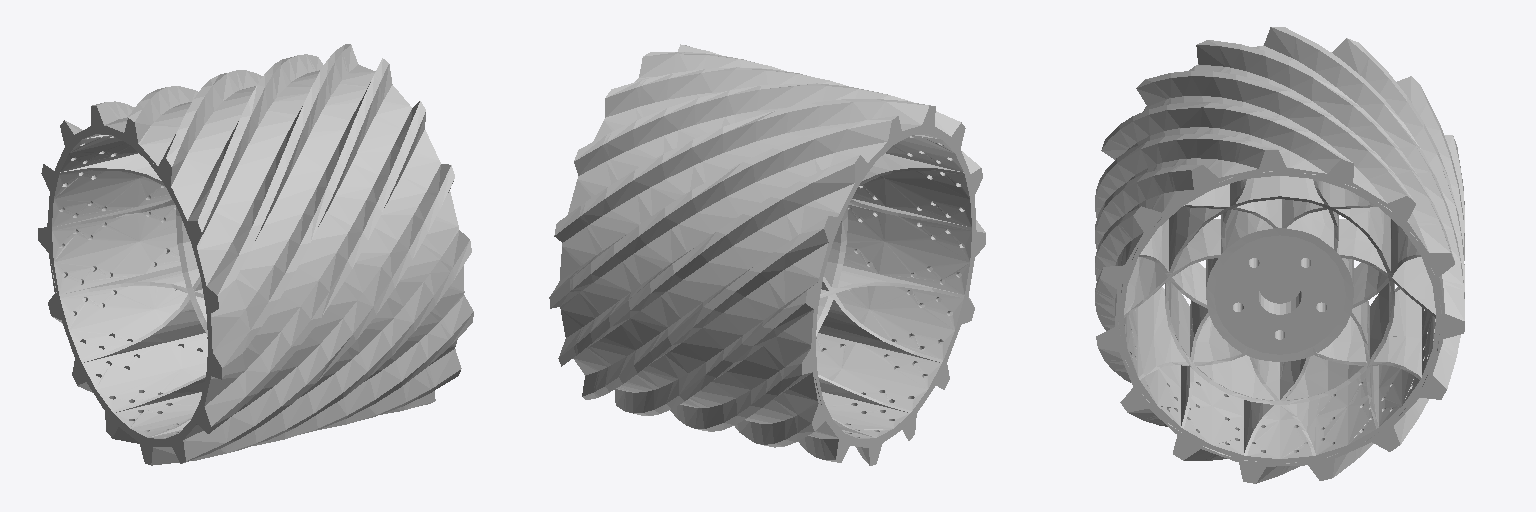
Rendered from fullwheelccw.obj.
3 renders of one model, left to right at view 1: azimuth 30°, elevation 25°; view 2: azimuth 150°, elevation 25°; view 3: azimuth 270°, elevation 25°, orthographic.
Parts seen in each view (by area): view 1: obj_[number redacted]; view 2: obj_[number redacted]; view 3: obj_[number redacted].
Boxes of the visible parts, x1=… form: obj_[number redacted]: x1=38, y1=44, x2=473, y2=465; obj_[number redacted]: x1=549, y1=44, x2=985, y2=465; obj_[number redacted]: x1=1095, y1=27, x2=1464, y2=483.
Bounding box in the file's own units: 0.22 × 0.2802 × 0.2802.